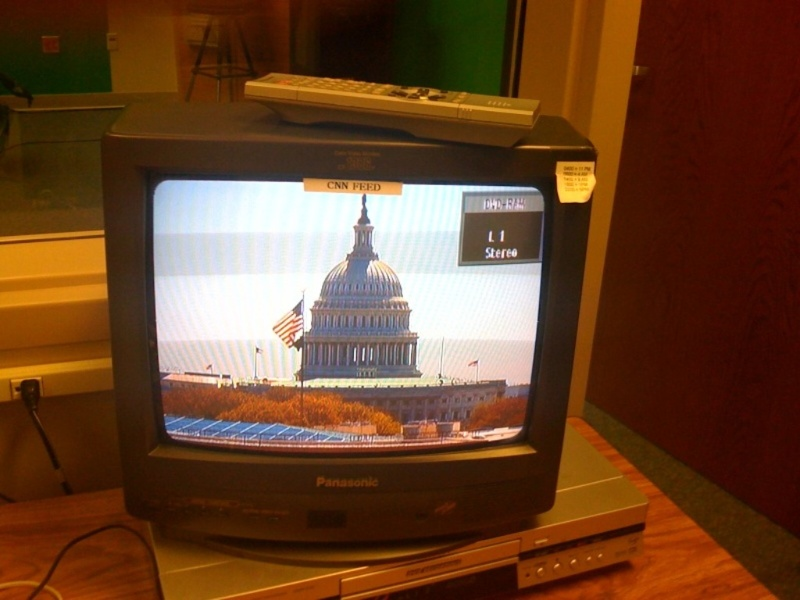tv: (88, 84, 592, 551)
